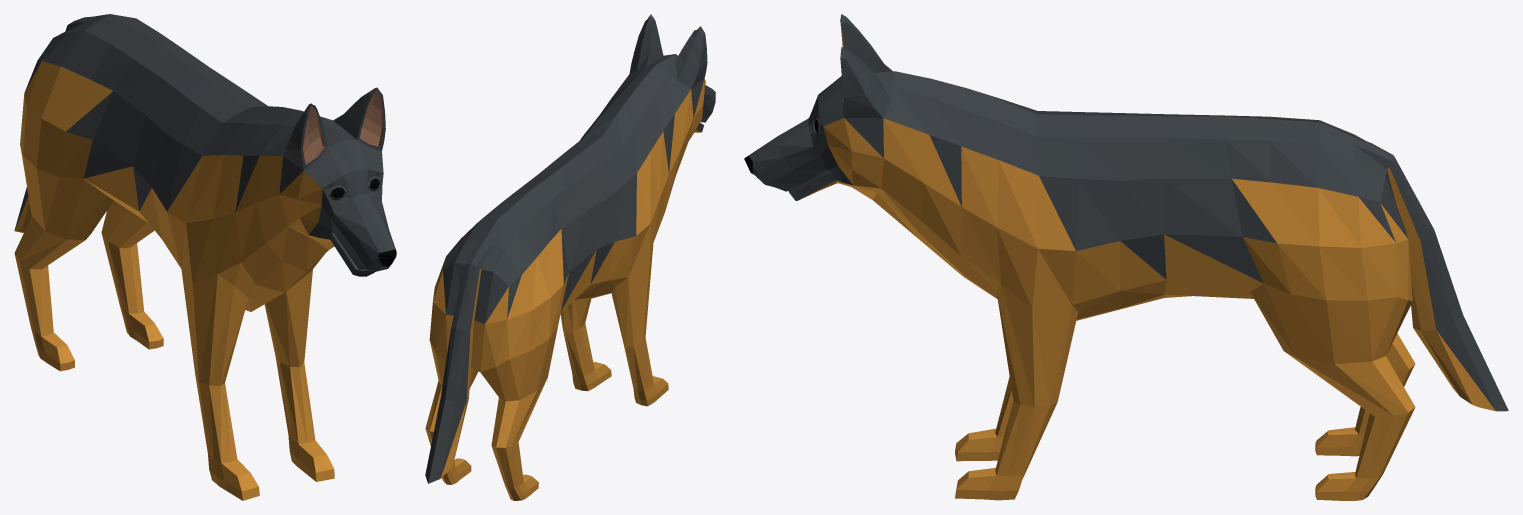
File: Dog Final ().glb
The picture shows the model from 3 angles, left to right: view 1: azimuth 30°, elevation 25°; view 2: azimuth 150°, elevation 25°; view 3: azimuth 270°, elevation 25°; orthographic projection. The views are drawn at different scales.
Visible parts, largest first — view 1: 25dogFinal; view 2: 25dogFinal; view 3: 25dogFinal.
Part boxes in pixels (bbox=[...]): 25dogFinal: bbox=[14, 14, 396, 500]; 25dogFinal: bbox=[425, 14, 715, 500]; 25dogFinal: bbox=[744, 14, 1508, 500].
Size of the model in its own units: 0.4091 by 1.21 by 1.88.
Materials: 1 (1 with a texture image).
